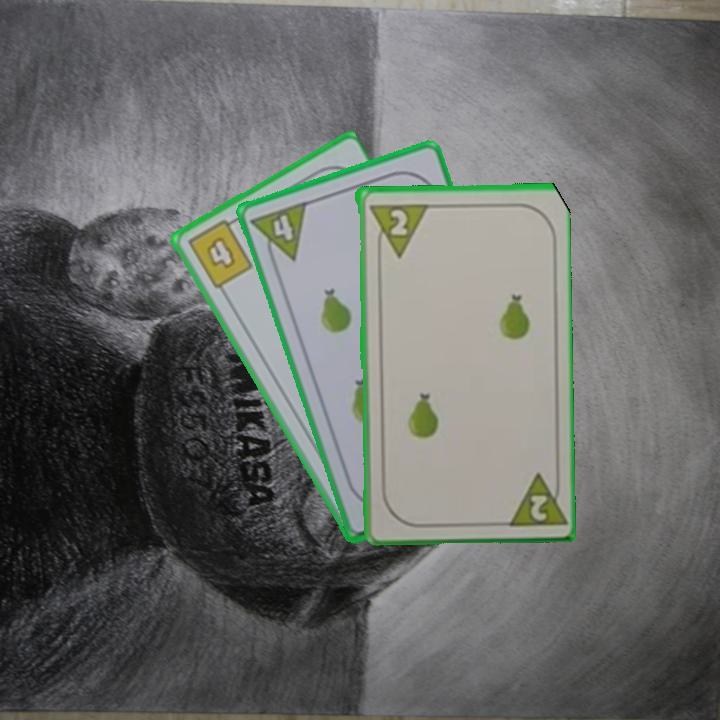2p: (501, 467, 566, 529), (365, 200, 428, 260)
4b: (183, 213, 256, 292)
4p: (247, 197, 310, 270)
